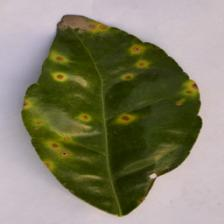canker: (35, 46, 208, 136)
